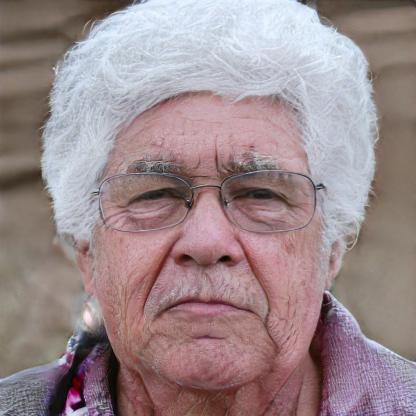glasses: (93, 168, 323, 240)
